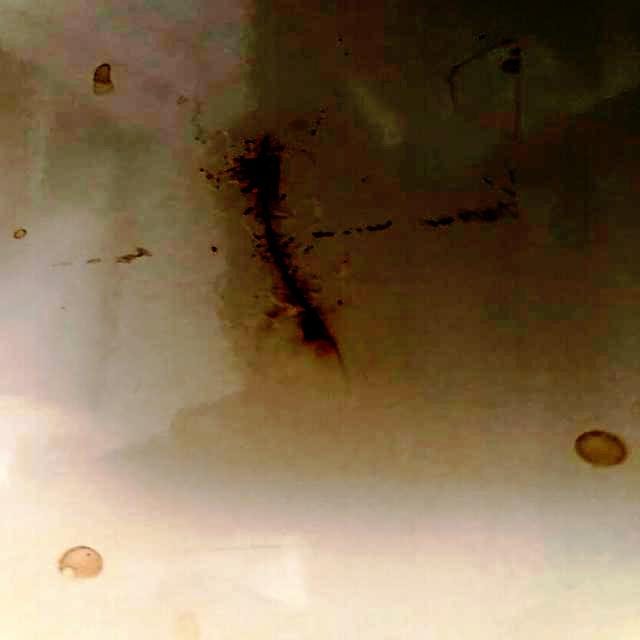Corrosion: (232, 133, 340, 350)
